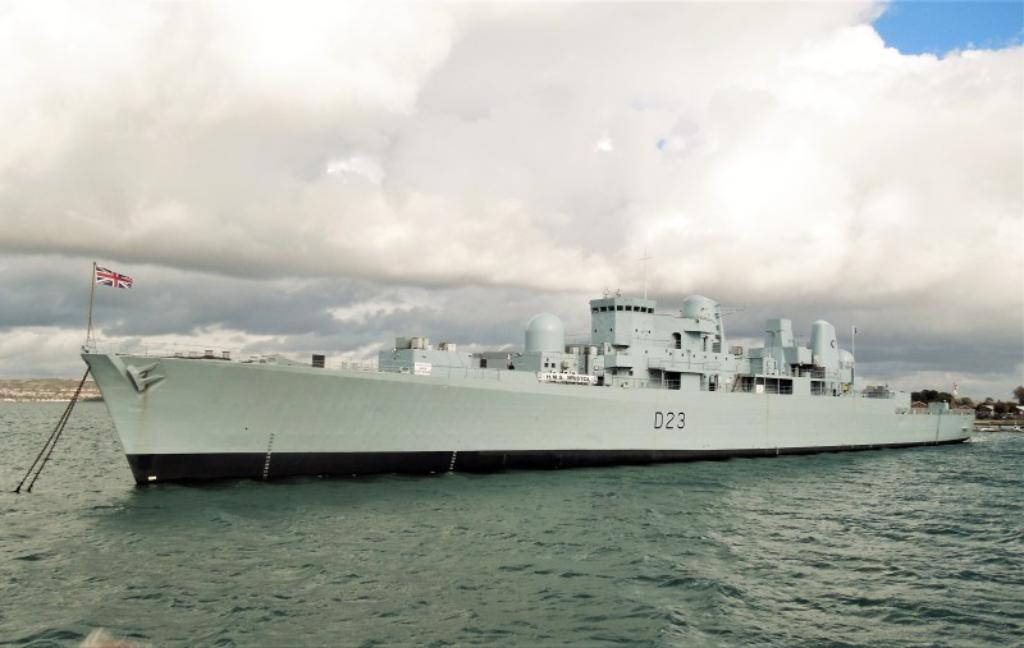Warship: (76, 240, 980, 490)
